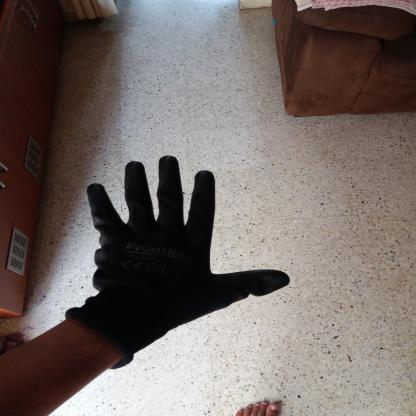gloved_hand: (52, 154, 291, 368)
